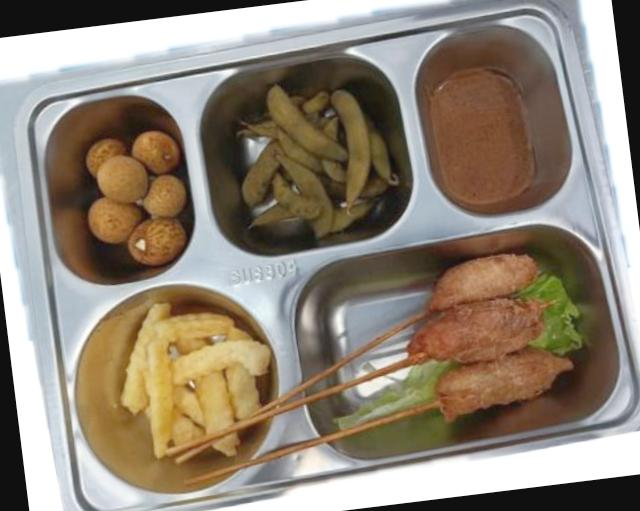ayam: (237, 254, 573, 470), (0, 222, 160, 263)
buah: (86, 130, 190, 266)
kacang: (240, 84, 398, 239)
kentang: (0, 189, 506, 453), (120, 303, 271, 458)
